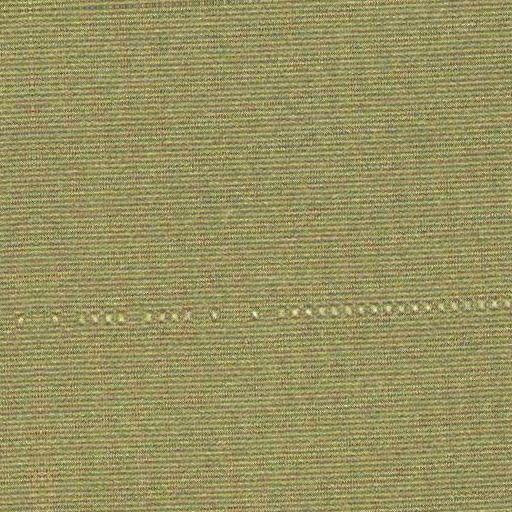slub: (1, 294, 511, 339)
